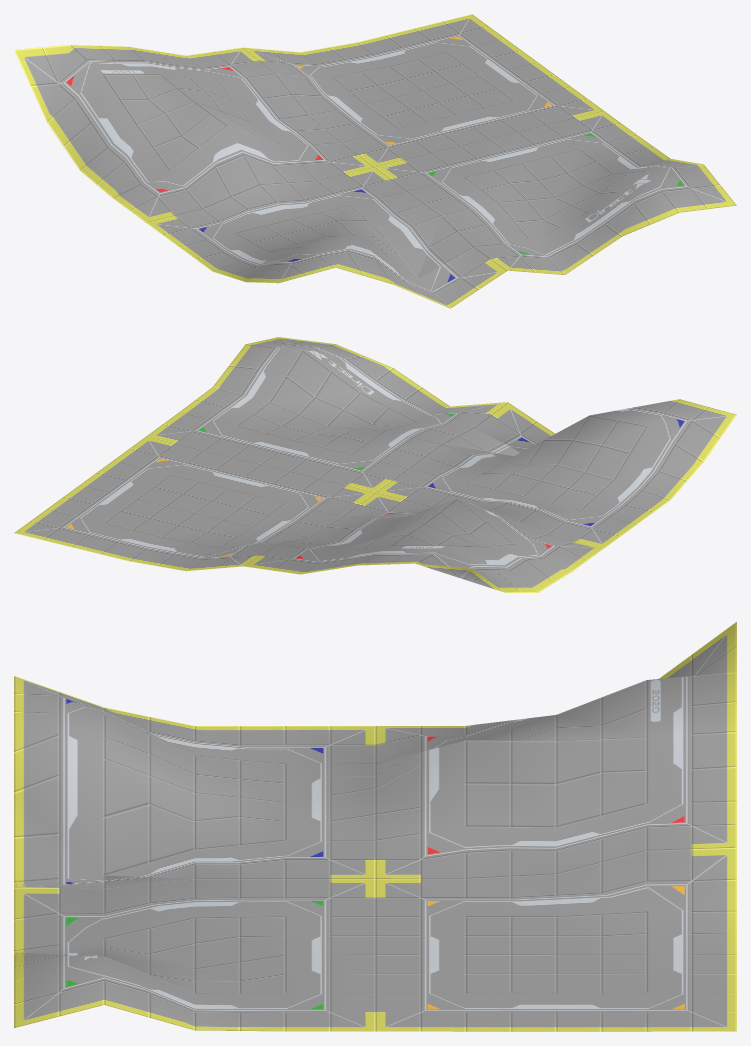
The model's file is land2.fbx.
3 renders of one model, top to bottom at view 1: azimuth 30°, elevation 25°; view 2: azimuth 150°, elevation 25°; view 3: azimuth 270°, elevation 25°, orthographic. The views are drawn at different scales.
Parts seen in each view (by area): view 1: obj1; view 2: obj1; view 3: obj1.
Boxes of the visible parts, x1=… form: obj1: x1=14, y1=14, x2=736, y2=308; obj1: x1=14, y1=337, x2=736, y2=592; obj1: x1=14, y1=622, x2=736, y2=1031.
Bounding box in the file's own units: 4000 × 895 × 4000.
Materials: 1 (1 with a texture image).
